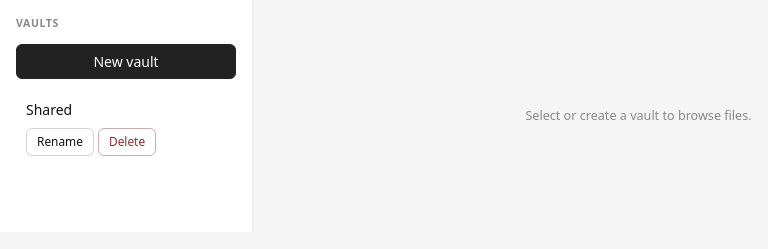
Test case: FileManager refresh identity › refreshes after a confirmed delete even when the SDK no longer reports ownership
Click the button with test id "delete-vault" at (127, 142), box [98,128,156,156]
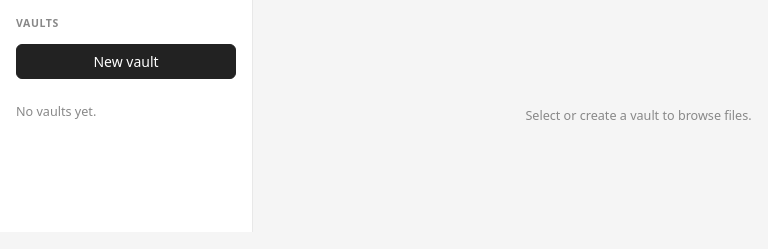
Now the text "No vaults yet." is shown, box [16,103,96,120]
Now the button "Shared" is gone
